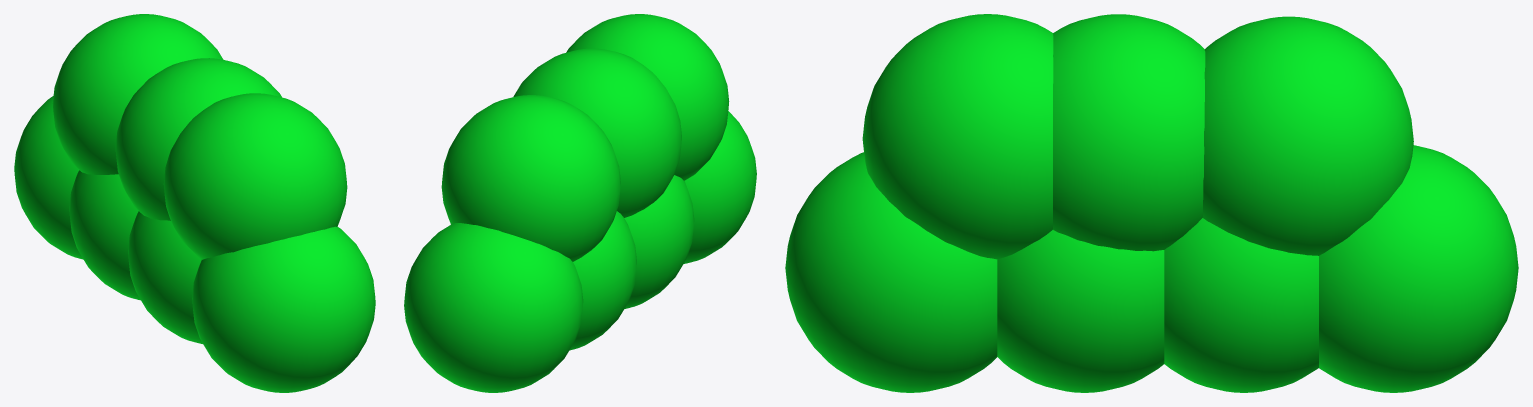
File: bush_type1.glb
The picture shows the model from 3 angles, left to right: view 1: azimuth 30°, elevation 25°; view 2: azimuth 150°, elevation 25°; view 3: azimuth 270°, elevation 25°; orthographic projection. The views are drawn at different scales.
Visible parts, largest first — view 1: Sphere.002, Sphere.003, Sphere.004, Sphere.005, Sphere, Sphere.006, Sphere.001; view 2: Sphere, Sphere.004, Sphere.005, Sphere.003, Sphere.002, Sphere.006, Sphere.001; view 3: Sphere.004, Sphere.003, Sphere, Sphere.002, Sphere.005, Sphere.006, Sphere.001.
Boxes of the visible parts, left/top/right/bottom form: Sphere.002: left=192, top=226, right=375, bottom=392; Sphere.003: left=163, top=93, right=347, bottom=259; Sphere.004: left=52, top=14, right=223, bottom=174; Sphere.005: left=115, top=58, right=281, bottom=220; Sphere: left=14, top=96, right=83, bottom=259; Sphere.006: left=128, top=211, right=202, bottom=343; Sphere.001: left=69, top=170, right=140, bottom=300; Sphere: left=404, top=223, right=583, bottom=392; Sphere.004: left=441, top=95, right=620, bottom=261; Sphere.005: left=513, top=48, right=681, bottom=217; Sphere.003: left=566, top=14, right=729, bottom=180; Sphere.002: left=684, top=111, right=756, bottom=263; Sphere.006: left=624, top=175, right=694, bottom=308; Sphere.001: left=569, top=211, right=636, bottom=350; Sphere.004: left=1202, top=16, right=1413, bottom=255; Sphere.003: left=862, top=14, right=1053, bottom=259; Sphere: left=1319, top=145, right=1518, bottom=392; Sphere.002: left=785, top=152, right=997, bottom=392; Sphere.005: left=1053, top=14, right=1205, bottom=251; Sphere.006: left=997, top=230, right=1164, bottom=392; Sphere.001: left=1164, top=218, right=1318, bottom=392.
Size of the model in its own units: 2 by 3.14 by 5.86.
